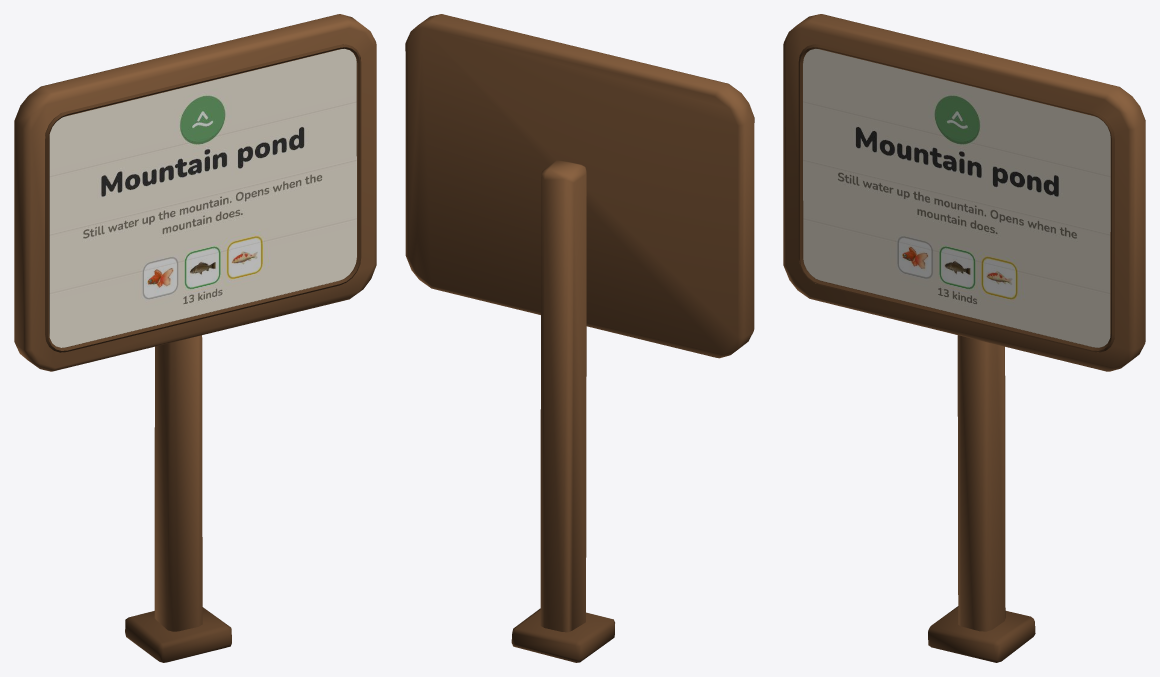
The model's file is water-sign-pond.glb.
3 renders of one model, left to right at view 1: azimuth 30°, elevation 25°; view 2: azimuth 150°, elevation 25°; view 3: azimuth 330°, elevation 25°, orthographic. The views are drawn at different scales.
Visible parts, largest first — view 1: water-sign-pond; view 2: water-sign-pond; view 3: water-sign-pond.
Part boxes in pixels (left/top/right/bottom): water-sign-pond: left=14, top=14, right=376, bottom=662; water-sign-pond: left=405, top=14, right=754, bottom=662; water-sign-pond: left=783, top=14, right=1145, bottom=662.
Bounding box in the file's own units: 1.15 × 1.87 × 0.253.
2 materials, 1 textured.
